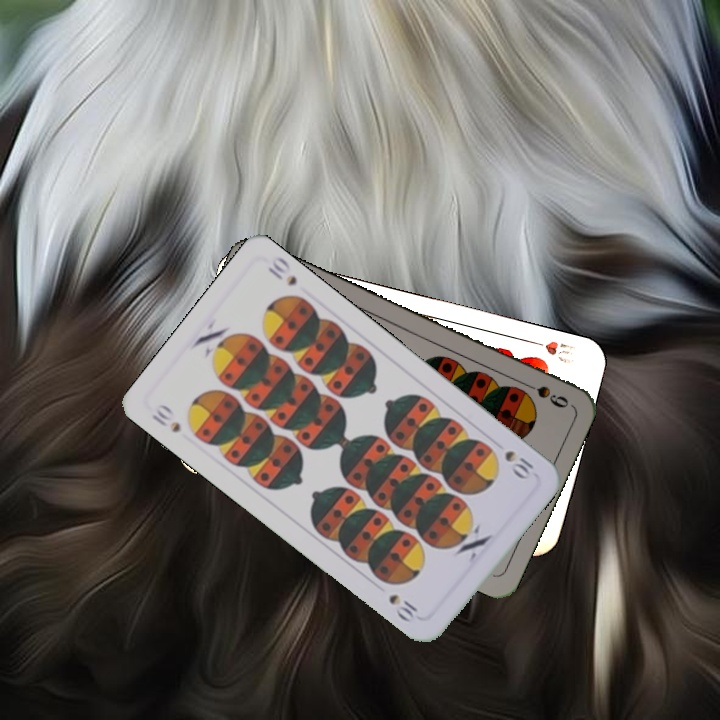H10: (524, 335, 579, 367)
S10: (500, 446, 537, 483), (147, 400, 183, 436)
S9: (516, 377, 572, 411)
